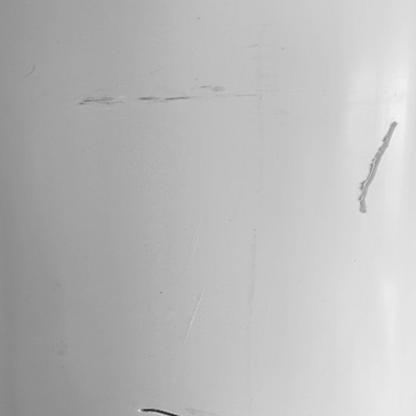fengxi: (131, 406, 188, 416)
sunshang: (355, 123, 397, 214), (80, 88, 248, 105)
